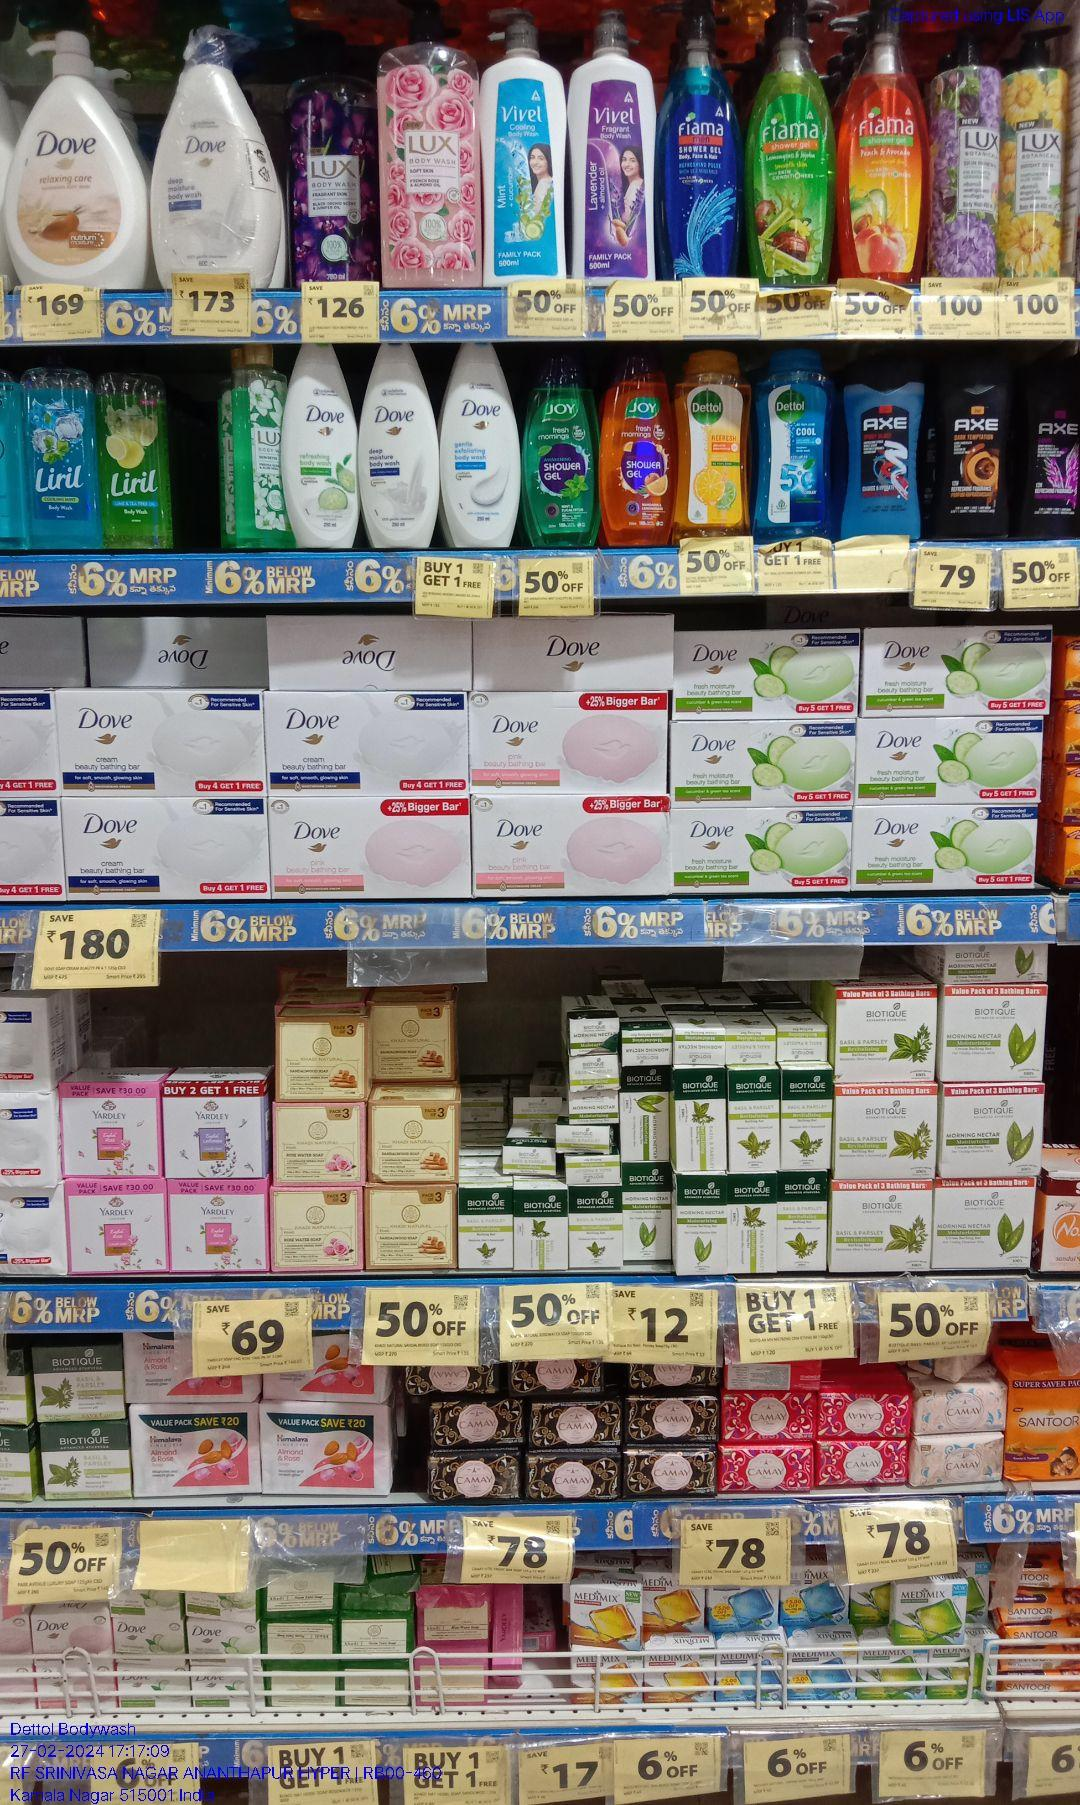Dettol_Bodywash_Cool: (762, 348, 838, 546)
Dettol_Bodywash_Refresh: (676, 346, 750, 541)
Dove_Deep_Moisture_Body_Wash_250ML: (361, 341, 440, 550)
Dove_Gentle_Exfoliating_Body_Wash_250ML: (446, 339, 514, 549)
Dove_Refreshing_Body_Wash_250ML: (287, 338, 355, 552)
Joy_Shower_Gel_Mandarin_and_Lemongrass_250ML: (603, 350, 675, 549)
Joy_Shower_Gel_Mint_and_Eucalyptus_250ML: (522, 346, 595, 546)
Liril_Cooling_Mint_Body_Wash_250ML: (24, 346, 96, 552)
Liril_Lime_and_Tea_Tree_Oil_Body_Wash_250ML: (100, 355, 170, 548)
Lux_Body_Wash_Skin_Detox_Freesia_Scent_and_Alove_Vera_245ML: (239, 347, 282, 552)
